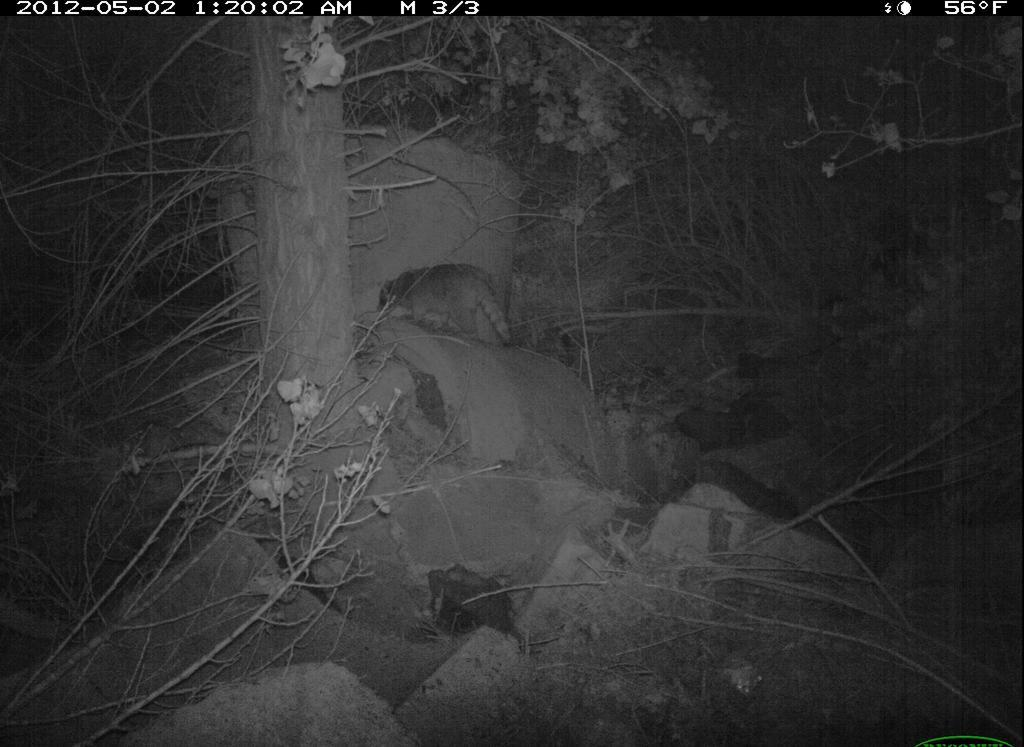raccoon: (374, 258, 523, 351)
